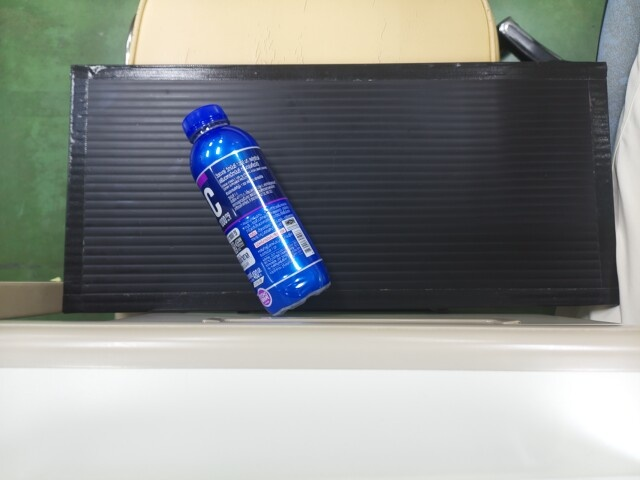plastic_bottle: (177, 100, 329, 313)
